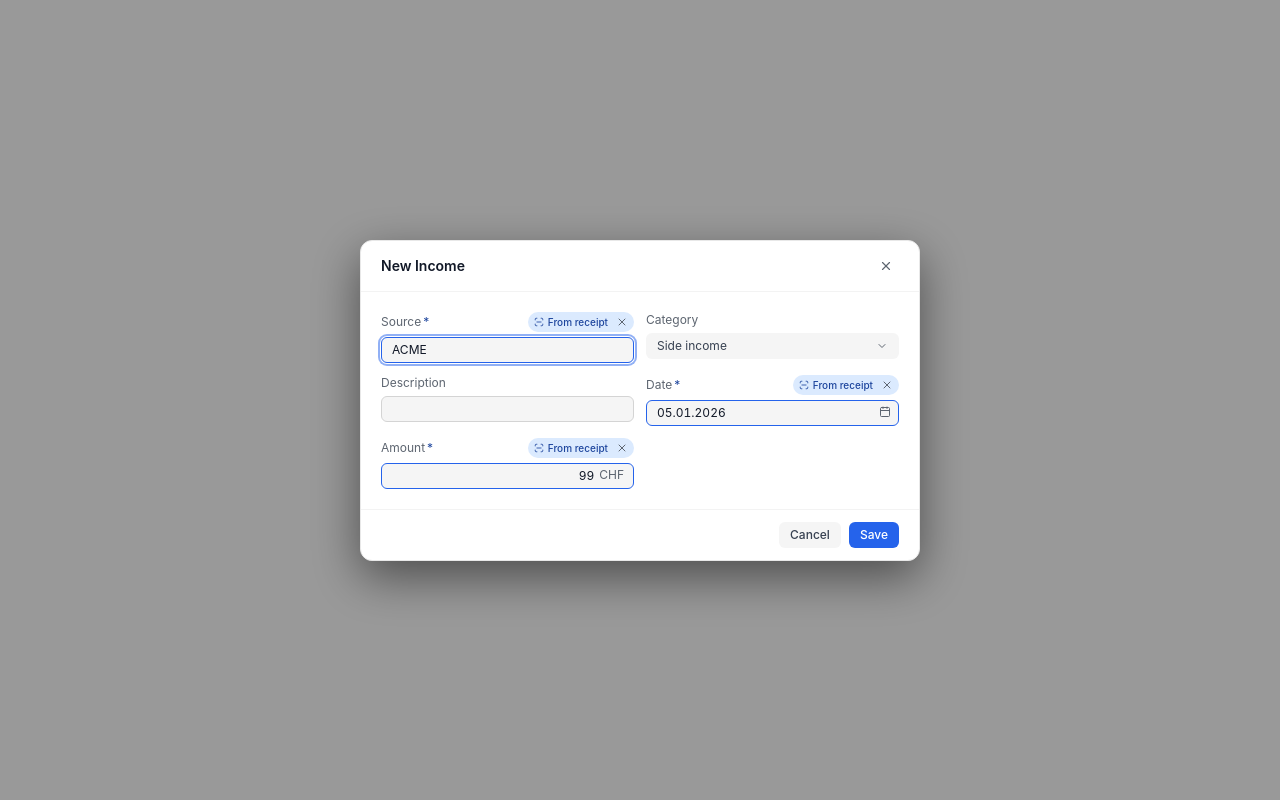
detected-from-receipt indicators (income) › marks prefilled fields and clears the marker on edit
Expected: the text "From receipt" is shown 3 times, [528,312,634,332]; [793,374,899,394]; [528,438,634,458]
Replace the text in the field showing "ACME" with "Other" at (508, 350), box [381,336,634,362]
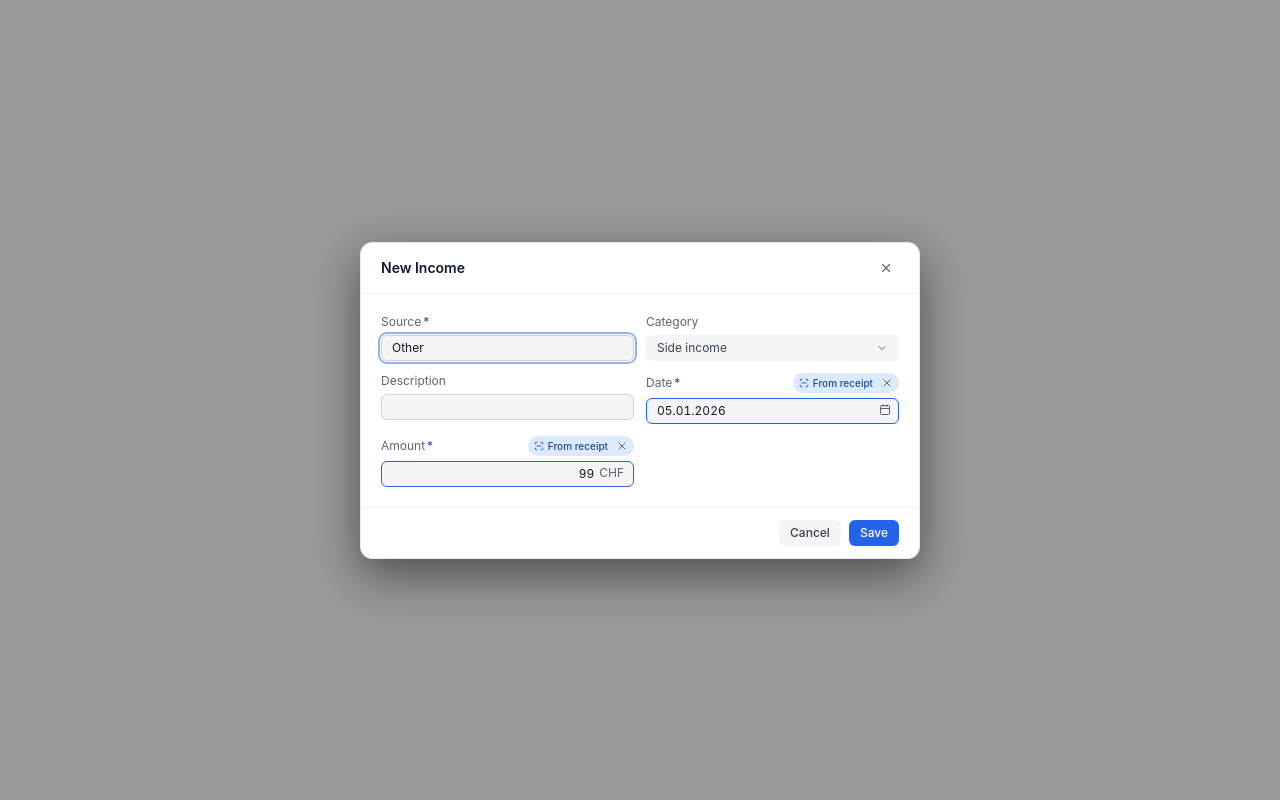
Expected: the text "From receipt" is shown 2 times, [793,372,899,392]; [528,436,634,456]
